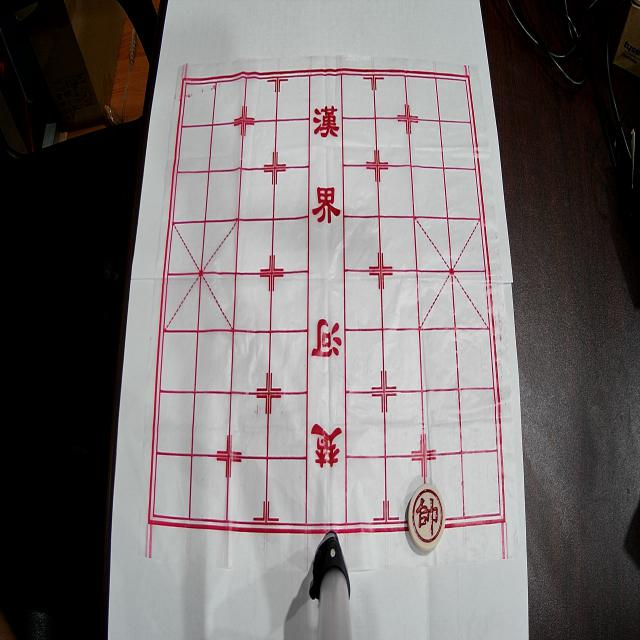red-general: (408, 484, 446, 552)
